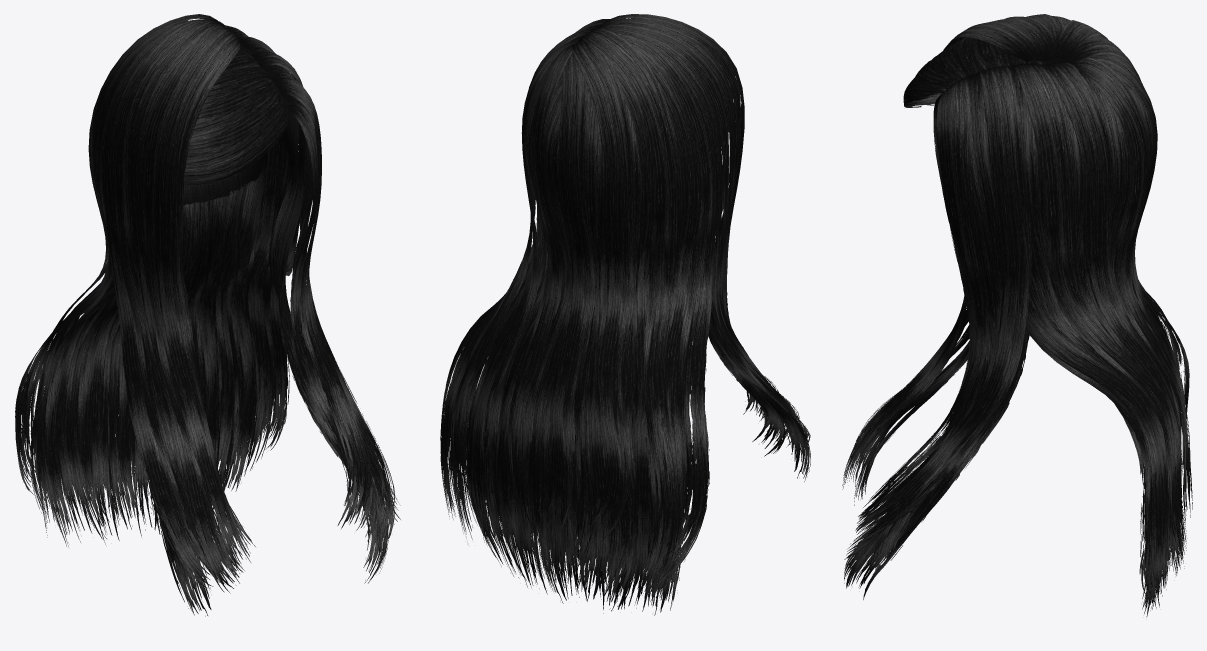
File: FemaleHair5.obj
3 renders of one model, left to right at view 1: azimuth 30°, elevation 25°; view 2: azimuth 150°, elevation 25°; view 3: azimuth 270°, elevation 25°, orthographic. The views are drawn at different scales.
Visible parts, largest first — view 1: Top, Base, Wisps, Bangs, Skullcap; view 2: Top, Wisps, Base; view 3: Wisps, Top, Base, Bangs.
Part boxes in pixels (<box>): Top: <box>15,19,400,593</box>; Base: <box>40,150,388,616</box>; Wisps: <box>21,14,394,517</box>; Bangs: <box>184,46,288,186</box>; Skullcap: <box>182,43,300,205</box>; Top: <box>440,14,810,610</box>; Wisps: <box>451,19,683,572</box>; Base: <box>466,165,810,615</box>; Wisps: <box>857,20,1192,568</box>; Top: <box>842,14,1184,608</box>; Base: <box>844,307,1164,617</box>; Bangs: <box>903,37,1057,107</box>.
Size of the model in its own units: 0.113 by 0.2249 by 0.1207.
